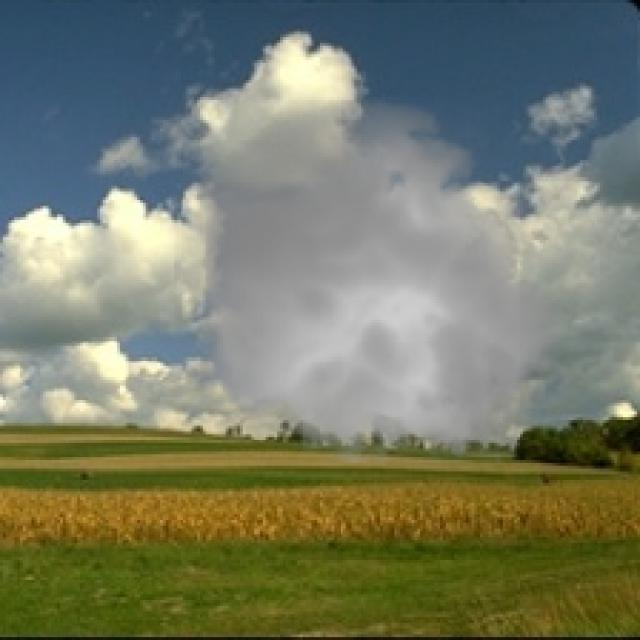smoke: (174, 86, 577, 480)
